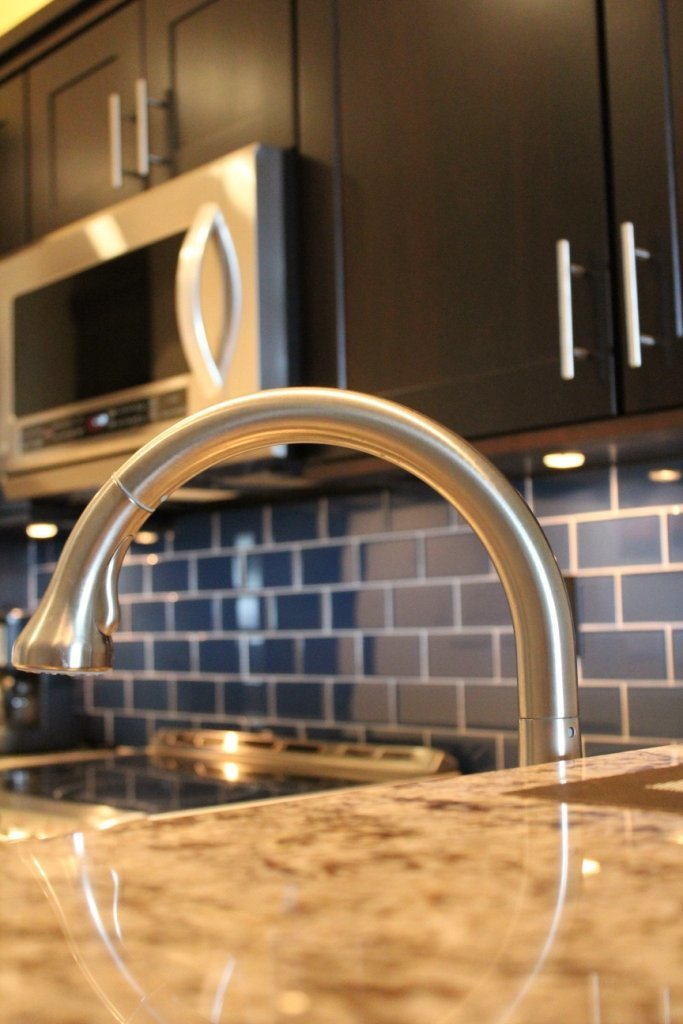tap: (33, 380, 565, 810)
